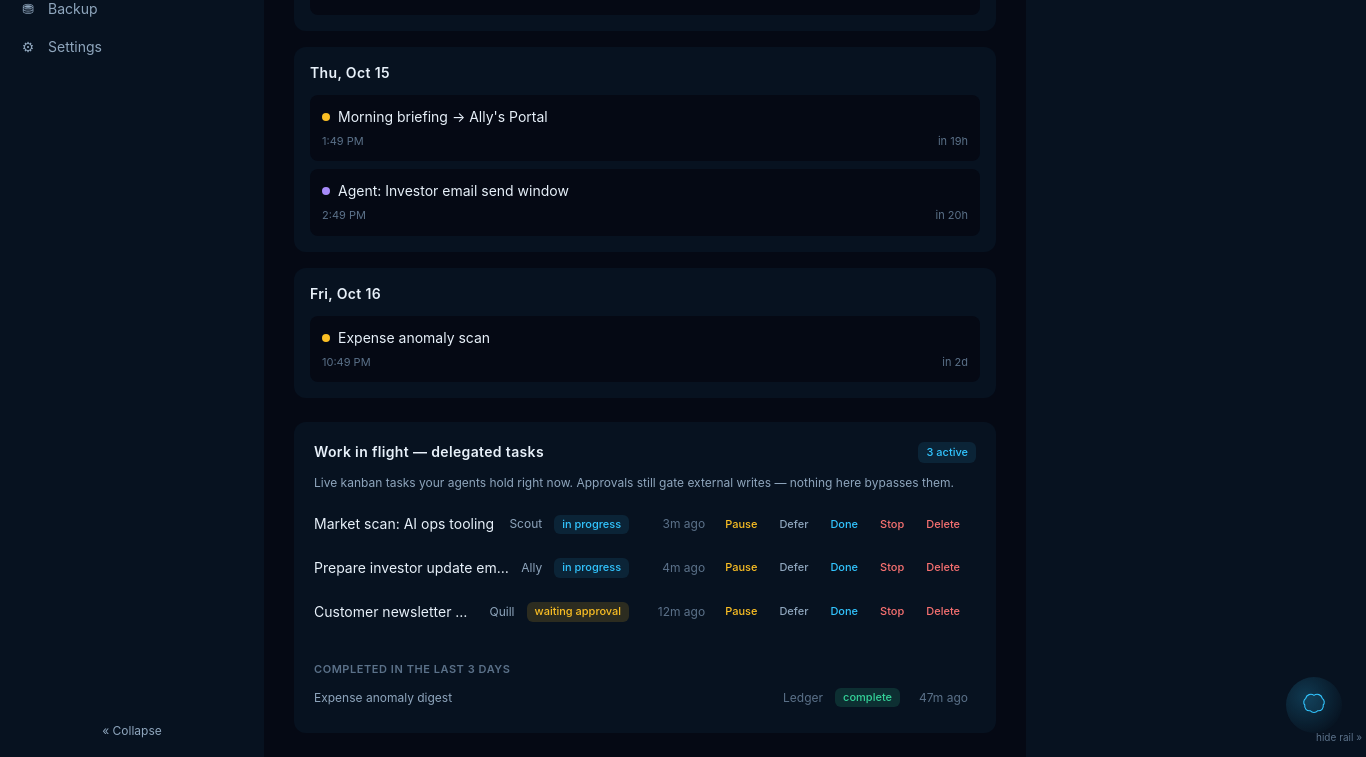
Schedule — completed runs are readable › clicking a completed-24h row opens the run drawer
(page scrolled)
Click the text "Expense anomaly digest" at coordinates (383, 697), box [314,690,452,705]
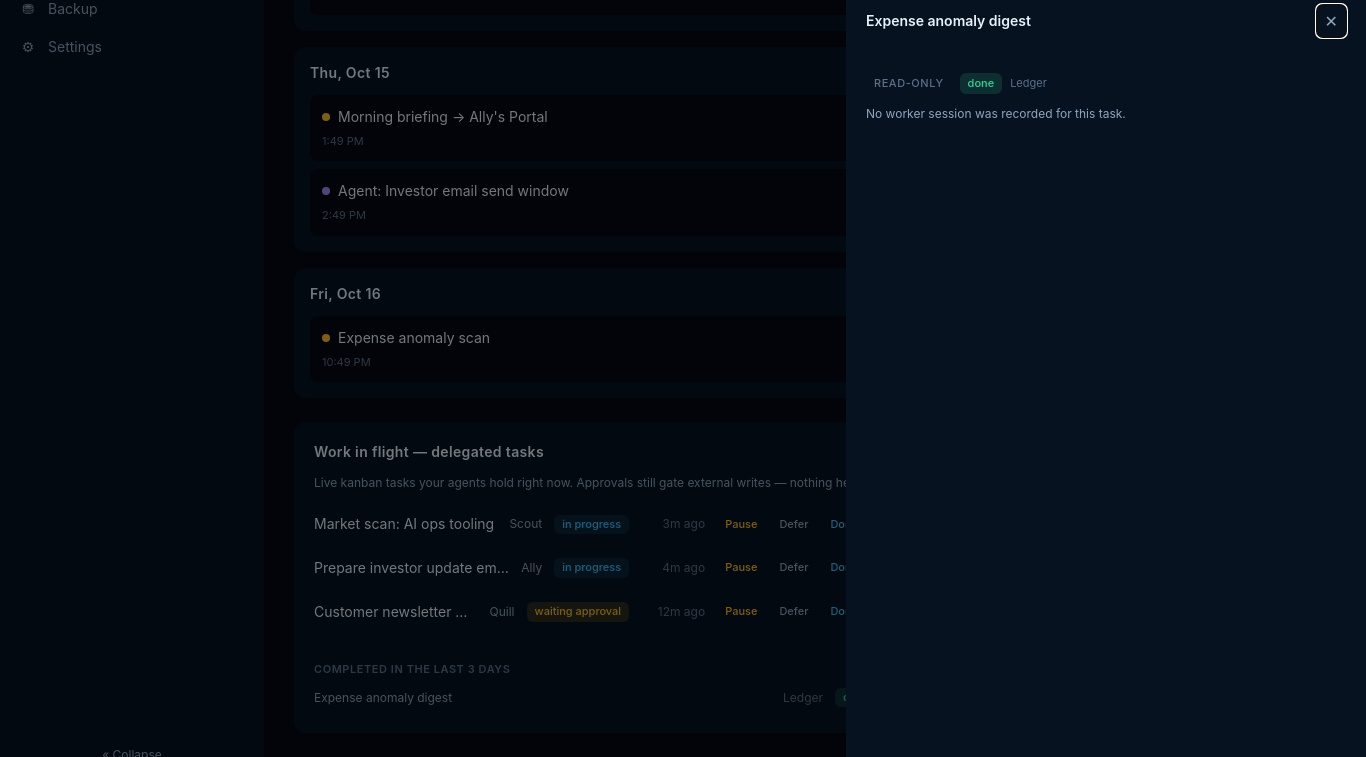
Expected: the heading "Expense anomaly digest" is shown, [866,11,1031,31]
Expected: the text "No worker session was recorded for this task." is shown, [866,106,1126,120]
